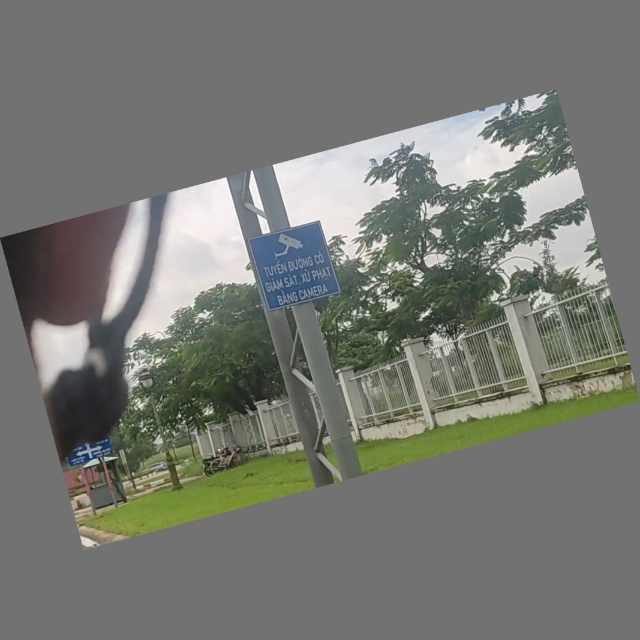Camera: (246, 216, 347, 317)
